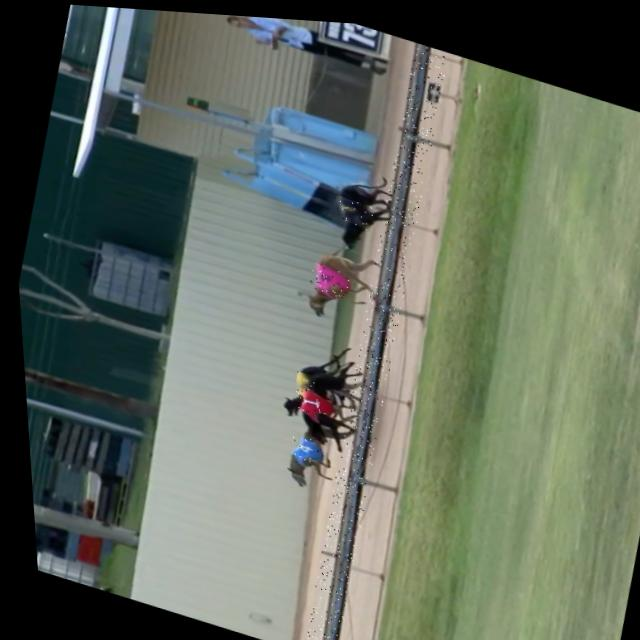dog_eight: (304, 257, 348, 294)
dog_five: (287, 366, 312, 393)
dog_four: (281, 427, 321, 464)
dog_one: (291, 386, 325, 412)
dog_seven: (328, 190, 372, 226)
rail: (314, 37, 432, 640)
